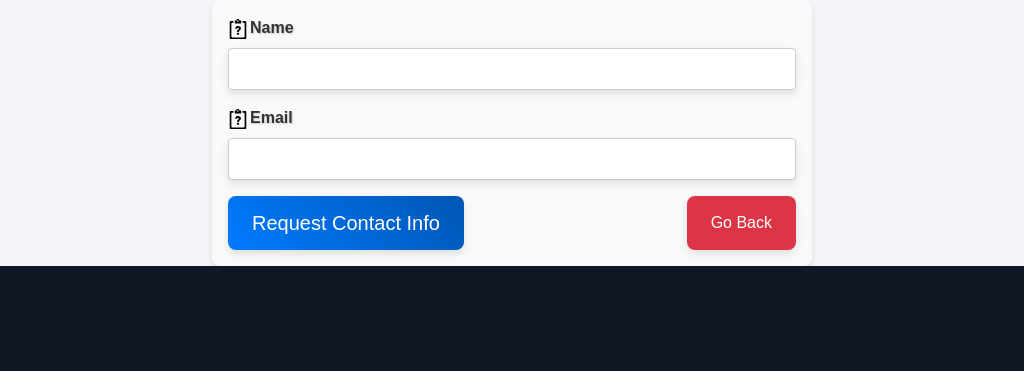
requests contact information using the centralized real contact details
The width and height of the screenshot is (1024, 371).
Type "Hiring Manager" into the field labelled "Name" at (512,69), box [228,48,796,90]
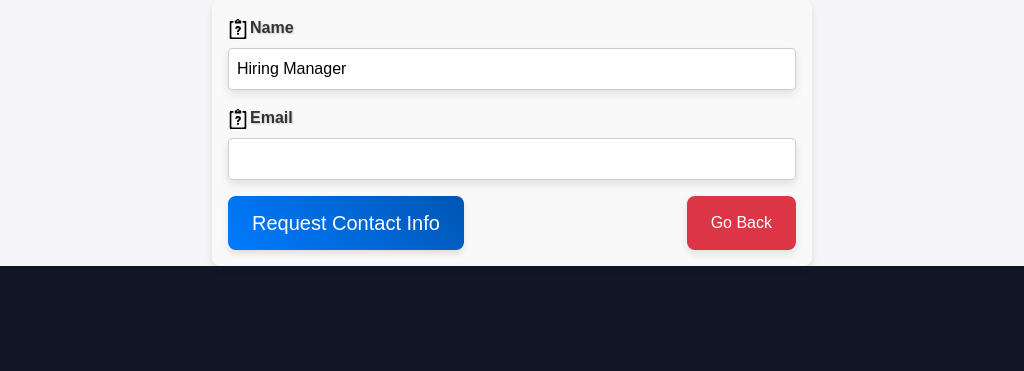
Type "hiring@example.com" into the field labelled "Email" at (512,159), box [228,138,796,180]
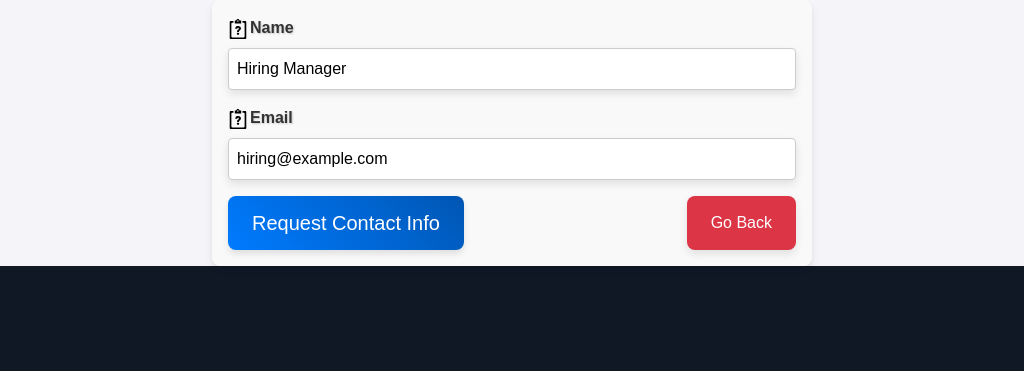
Click the button "Request Contact Info" at (346,223), box [228,196,464,250]
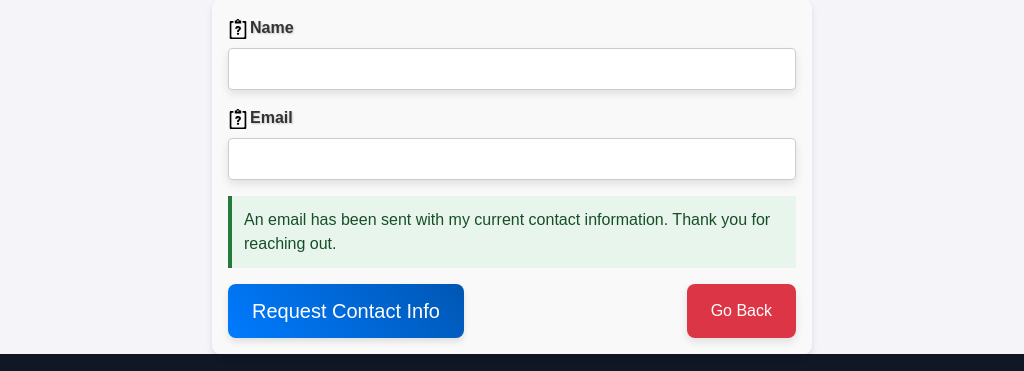
expect the message shows "An email has been sent with my current contact information.": met, box [244,211,770,252]
